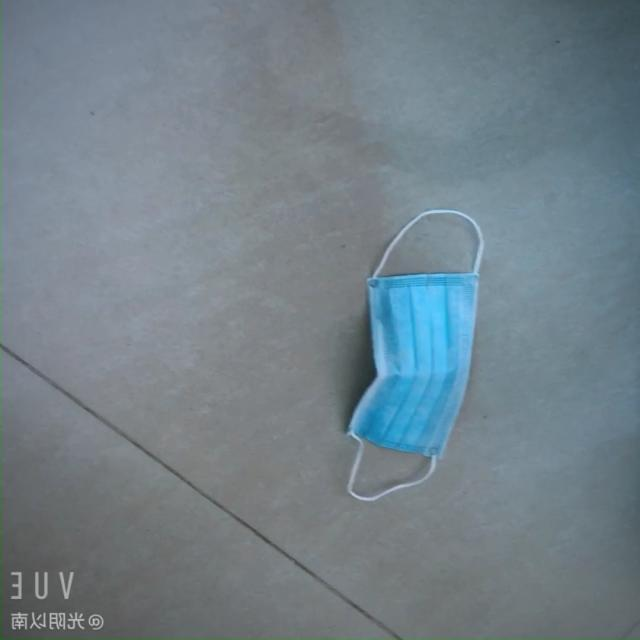face mask: (340, 208, 490, 500)
